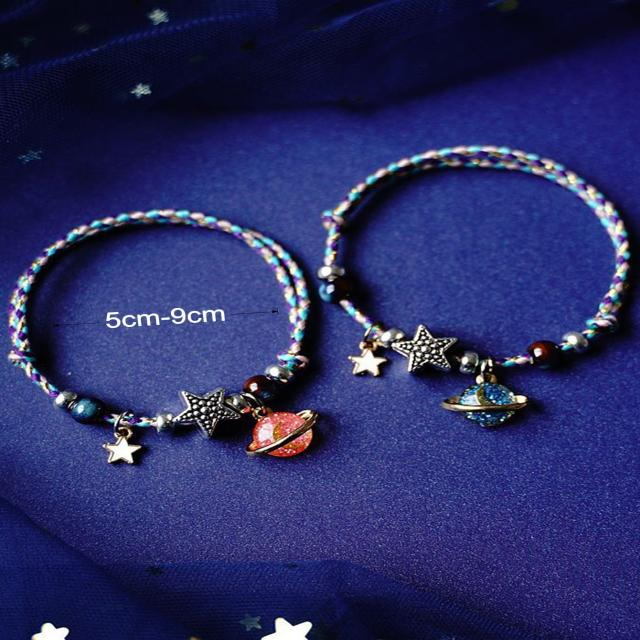bracelet: (266, 62, 640, 521), (0, 138, 391, 541)
